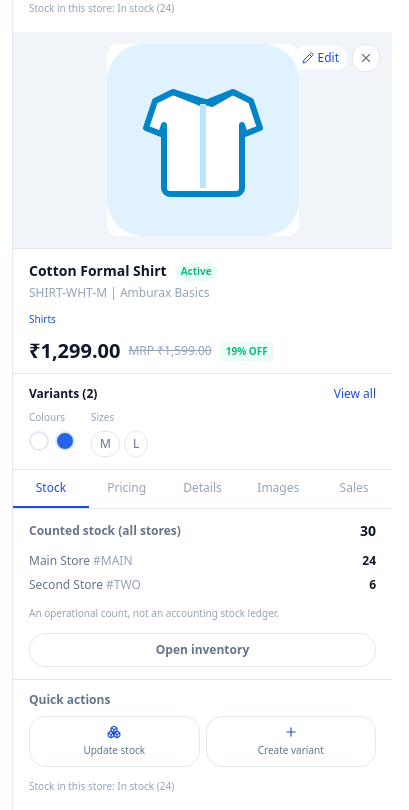
Test case: the sales tab reports real figures over a named window
The image size is (409, 810).
(page scrolled)
Click the tab "Sales": click(354, 489) [316, 470, 392, 508]
(page scrolled)
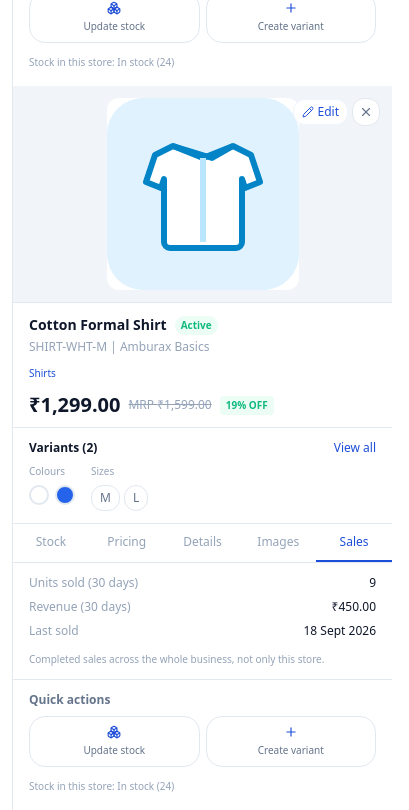
Expected: the text "Units sold (30 days)" is shown, [29, 575, 138, 591]
Expected: the text "9" is shown, [369, 575, 376, 591]
